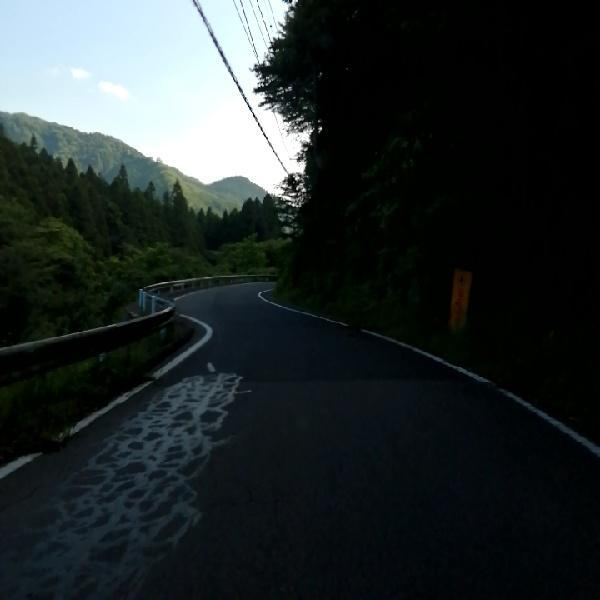D20: (42, 351, 240, 584)
D44: (287, 297, 599, 449)
